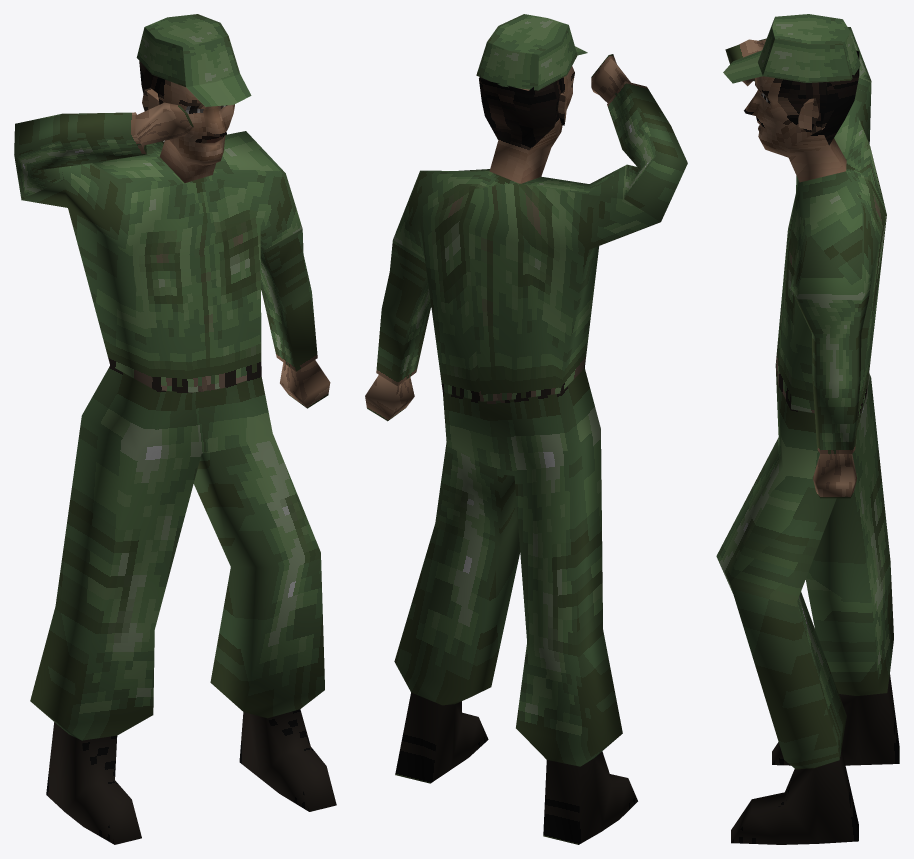
The model's file is police.FBX.
The picture shows the model from 3 angles, left to right: view 1: azimuth 30°, elevation 25°; view 2: azimuth 150°, elevation 25°; view 3: azimuth 270°, elevation 25°; orthographic projection. The views are drawn at different scales.
Visible parts, largest first — view 1: police; view 2: police; view 3: police.
Boxes of the visible parts, <box> form: police: <box>14,14,336,844</box>; police: <box>365,14,687,844</box>; police: <box>716,14,899,844</box>.
Bounding box in the file's own units: 0.0498 × 0.1182 × 0.0255.
2 materials, 2 textured.
